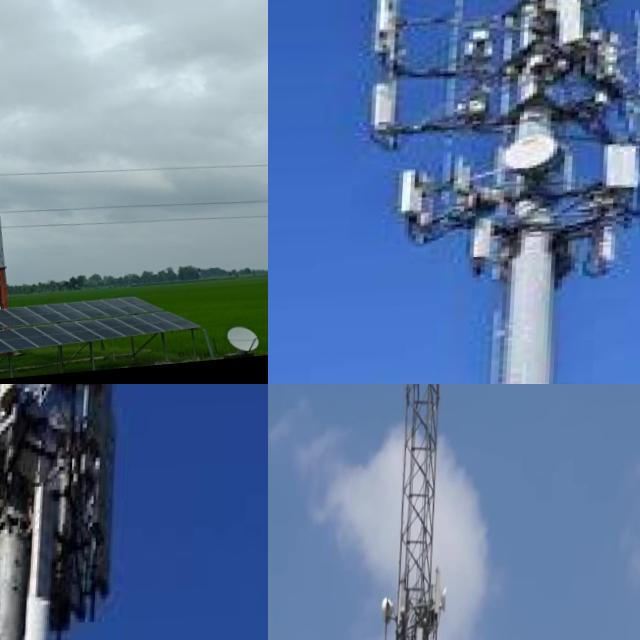GSM Antenna: (590, 145, 640, 214), (352, 0, 398, 64), (13, 577, 54, 640), (388, 169, 431, 228), (369, 74, 404, 145), (433, 572, 445, 625)
Microwave Antenna: (490, 139, 570, 198), (378, 596, 398, 636), (438, 591, 450, 626)
